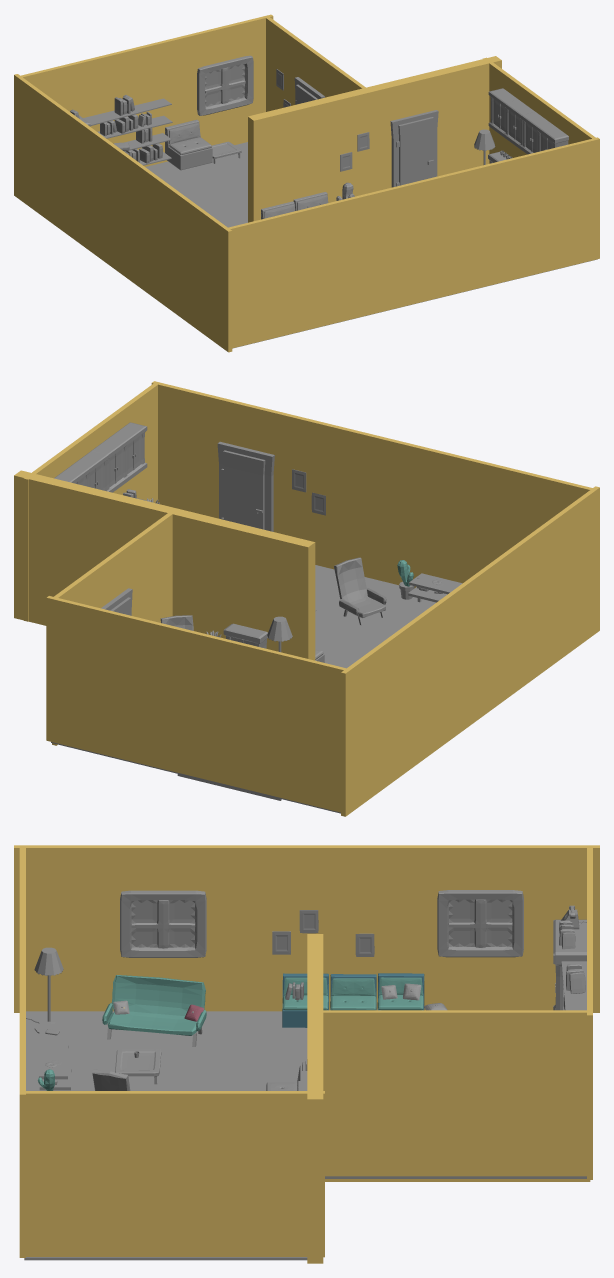
File: Room_Test_Colors.fbx
3 views of the same model, one above another, from view 1: azimuth 30°, elevation 25°; view 2: azimuth 150°, elevation 25°; view 3: azimuth 270°, elevation 25° (orthographic). The views are drawn at different scales.
Parts seen in each view (by area): view 1: pasted__Mesh; view 2: pasted__Mesh; view 3: pasted__Mesh.
Part boxes in pixels (left/top/right/bottom): pasted__Mesh: left=14, top=14, right=599, bottom=352; pasted__Mesh: left=14, top=381, right=599, bottom=816; pasted__Mesh: left=14, top=845, right=599, bottom=1263.
Bounding box in the file's own units: 20.28 × 6.33 × 19.79.
